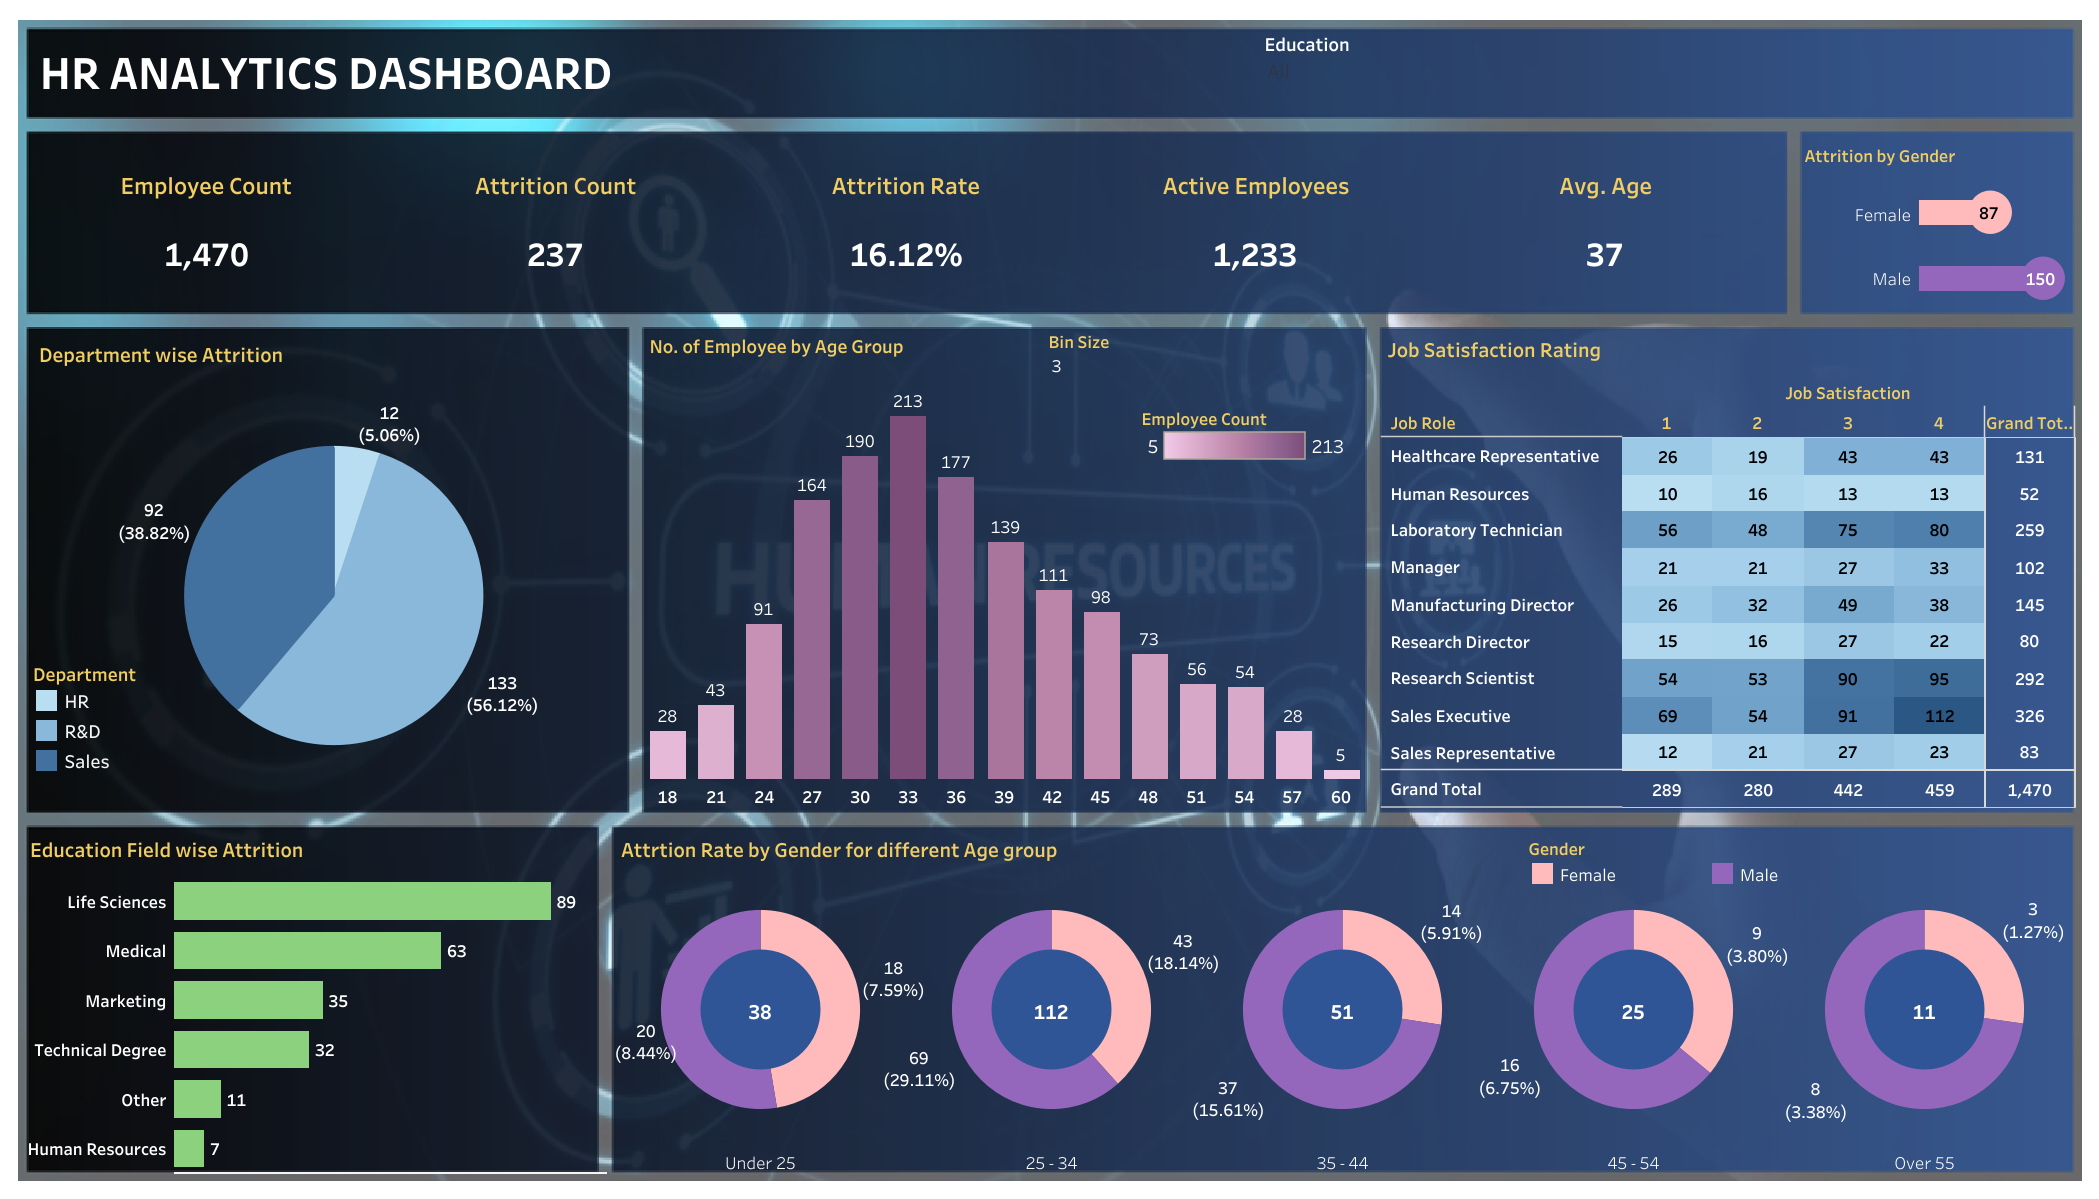

Layout of this report page (visuals, bound fields, positions):
{"tool":"tableau","page":{"name":"HR ANALYTICS DASHBOARD","canvas":[1400,800],"ordinal":0},"visuals":[{"type":"image","param":"Image/HR background.pptx.png","box":[8,8,1384,784]},{"type":"text","box":[24,15,744,63]},{"type":"filter","title":"Department wise Attrition","param":"[federated.14io4pb1d85gq413pw6d61mizrzm].[none:Education:nk]","box":[843,19,301,59]},{"type":"worksheet","title":"Attrition by Gender","mark":"Automatic","rows":["Gender"],"cols":["Calculation_908601278317596672","Calculation_908601278317596672"],"box":[1199,90,181,117]},{"type":"worksheet","title":"KPI","mark":"Automatic","box":[21,93,1166,111]},{"type":"worksheet","title":"No. of Employee by Age Group","mark":"Automatic","rows":["Employee Count"],"cols":["Age (bin)"],"box":[429,215,481,324]},{"type":"worksheet","title":"Job Satisfaction Rating","mark":"Square","rows":["Job Role"],"cols":["Job Satisfaction"],"box":[921,217,463,322]},{"type":"parameter","param":"[Parameters].[Parameter 1]","box":[699,219,213,44]},{"type":"worksheet","title":"Department wise Attrition","mark":"Pie","box":[22,220,401,320]},{"type":"legend","title":"No. of Employee by Age Group","param":"[federated.14io4pb1d85gq413pw6d61mizrzm].[sum:Employee Count:qk]","box":[761,267,140,51]},{"type":"legend","title":"Department wise Attrition","param":"[federated.14io4pb1d85gq413pw6d61mizrzm].[none:Department:nk]","box":[21,438,106,101]},{"type":"worksheet","title":"Education Field wise Attrition","mark":"Automatic","rows":["Education Field"],"cols":["Calculation_908601278317596672"],"box":[16,550,388,232]},{"type":"worksheet","title":"Attrtion Rate by Gender for different Age group","mark":"Pie","rows":["Calculation_353532624490954753","Calculation_353532624490954753"],"cols":["CF_age band"],"box":[410,550,970,233]},{"type":"legend","title":"Attrtion Rate by Gender for different Age group","param":"[federated.14io4pb1d85gq413pw6d61mizrzm].[none:Gender:nk]","box":[1018,556,364,39]}]}

Visuals, with their boxes in screenshot pixels (x1, y1, x2, y2), scaled from the page's 1400x800 canvas onto the 2099x1199 screenshot:
image: <region>12, 12, 2087, 1187</region>
text: <region>36, 22, 1151, 117</region>
"Department wise Attrition" filter: <region>1264, 28, 1715, 117</region>
"Attrition by Gender" worksheet: <region>1798, 135, 2069, 310</region>
"KPI" worksheet: <region>31, 139, 1780, 306</region>
"No. of Employee by Age Group" worksheet: <region>643, 322, 1364, 808</region>
"Job Satisfaction Rating" worksheet (Square marks): <region>1381, 325, 2075, 808</region>
parameter: <region>1048, 328, 1367, 394</region>
"Department wise Attrition" worksheet (Pie marks): <region>33, 330, 634, 809</region>
"No. of Employee by Age Group" legend: <region>1141, 400, 1351, 477</region>
"Department wise Attrition" legend: <region>31, 656, 190, 808</region>
"Education Field wise Attrition" worksheet: <region>24, 824, 606, 1172</region>
"Attrtion Rate by Gender for different Age group" worksheet (Pie marks): <region>615, 824, 2069, 1174</region>
"Attrtion Rate by Gender for different Age group" legend: <region>1526, 833, 2072, 892</region>
